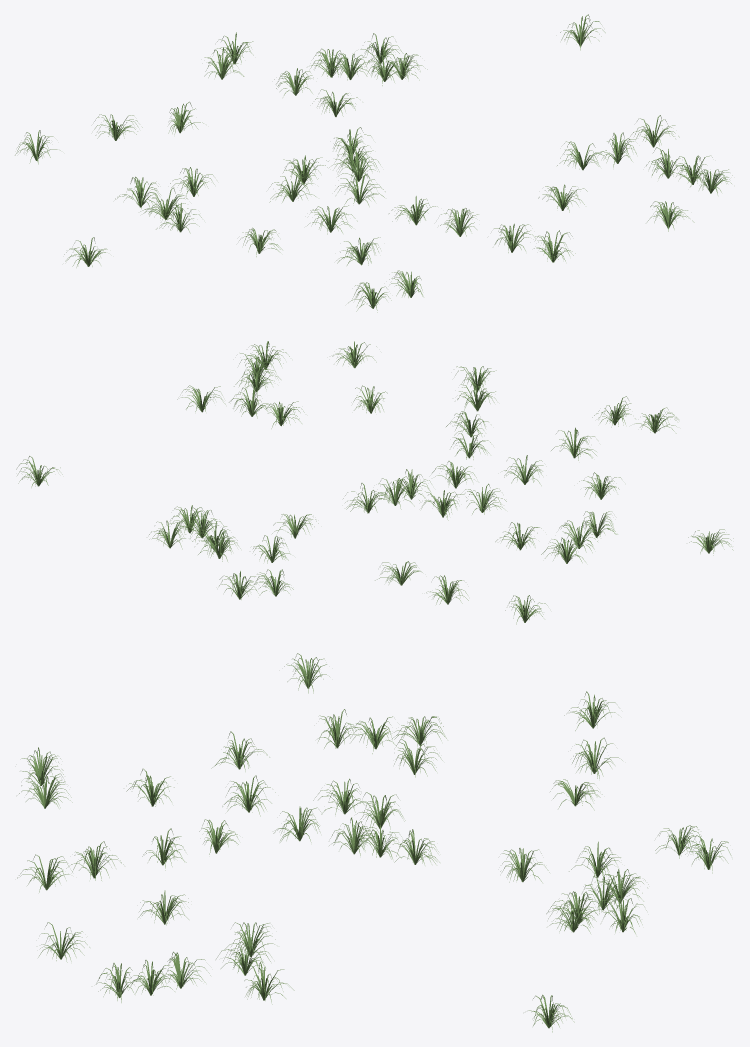
The model's file is teaching3-vegetation-18-near.glb.
3 views of the same model, one above another, from view 1: azimuth 30°, elevation 25°; view 2: azimuth 150°, elevation 25°; view 3: azimuth 270°, elevation 25° (orthographic). The views are drawn at different scales.
Visible parts, largest first — view 1: mondo grass.001; view 2: mondo grass.001; view 3: mondo grass.001.
Boxes of the visible parts, box(x1,y1,x2,y2) form: mondo grass.001: box(15, 14, 732, 312); mondo grass.001: box(16, 341, 733, 624); mondo grass.001: box(17, 653, 731, 1032).
Size of the model in its own units: 12.96 by 0.4754 by 10.75.
